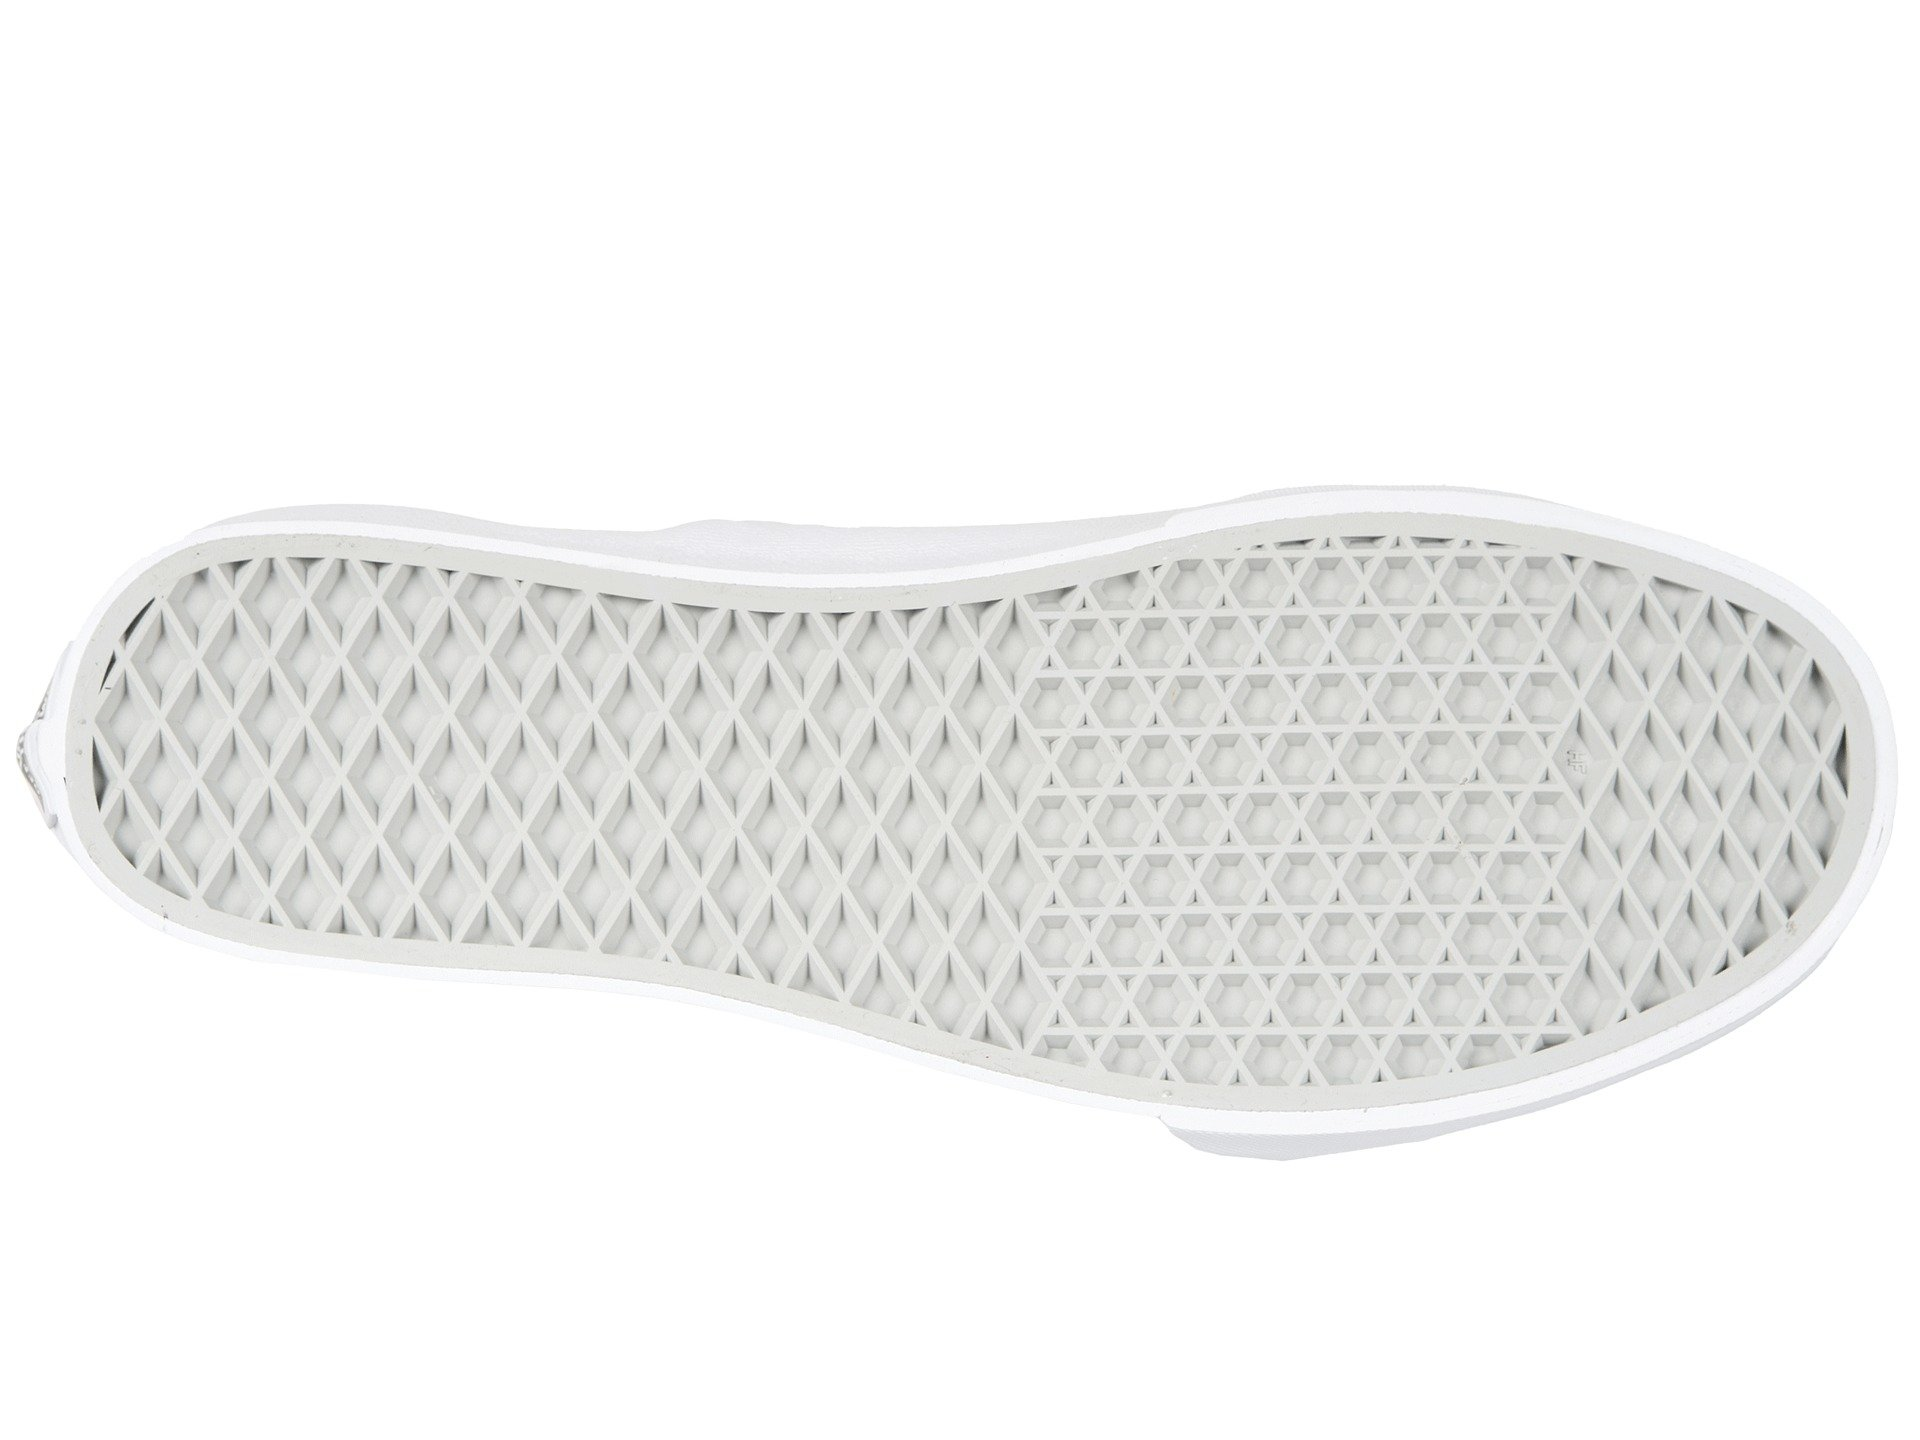polygon: (983, 157, 1273, 479), (1276, 97, 1548, 395), (1279, 401, 1503, 619)
quad: (395, 188, 712, 517), (97, 227, 389, 508), (1557, 141, 1829, 431), (723, 200, 980, 478)
star: (983, 157, 1273, 479), (1276, 97, 1548, 395), (1279, 401, 1503, 619)
triangle: (983, 157, 1273, 479), (1276, 97, 1548, 395), (1279, 401, 1503, 619)
